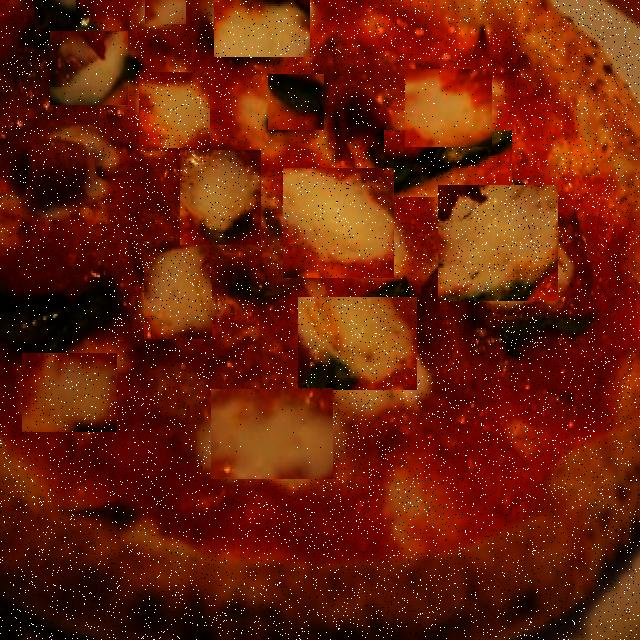Basil: (0, 254, 108, 348), (384, 130, 512, 197), (268, 74, 324, 130), (35, 0, 76, 37)
Cheese: (438, 185, 558, 301), (283, 168, 394, 278), (298, 298, 417, 392), (211, 389, 333, 479), (180, 150, 261, 245), (22, 353, 117, 432), (406, 69, 494, 147), (144, 241, 212, 339), (50, 31, 128, 105), (214, 0, 310, 57), (140, 72, 212, 148), (236, 90, 274, 158), (145, 0, 186, 24)
